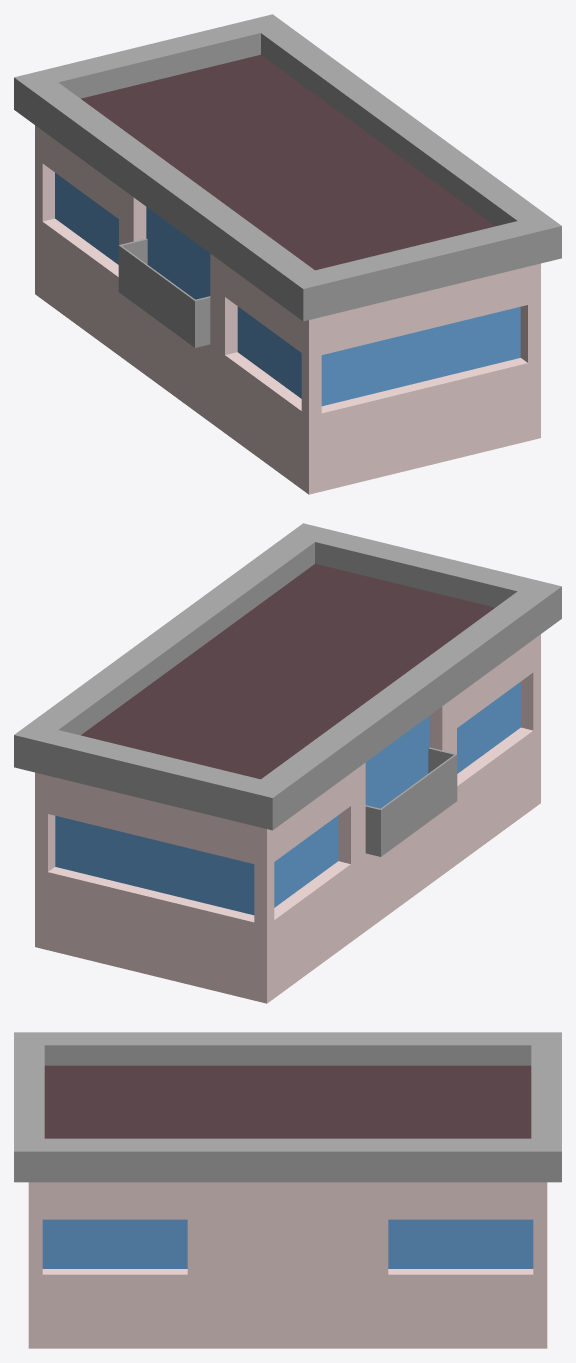
Rendered from building_1x2_3_r.glb.
3 views of the same model, one above another, from view 1: azimuth 30°, elevation 25°; view 2: azimuth 150°, elevation 25°; view 3: azimuth 270°, elevation 25° (orthographic). The views are drawn at different scales.
Parts seen in each view (by area): view 1: Cube.002; view 2: Cube.002; view 3: Cube.002.
Boxes of the visible parts, box(x1,y1,x2,y2) form: Cube.002: box(14, 14, 561, 494); Cube.002: box(14, 523, 561, 1003); Cube.002: box(14, 1032, 561, 1348).
Bounding box in the file's own units: 2.03 × 1.6 × 3.91.
